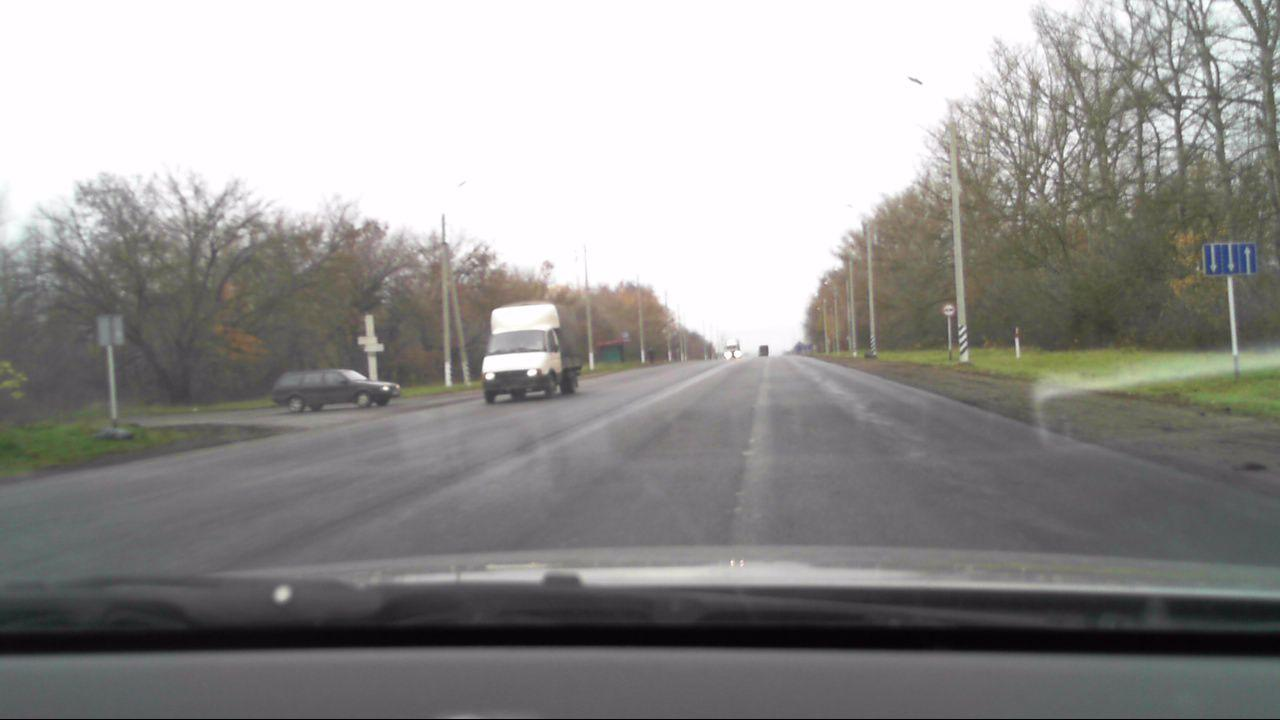3_20: (942, 303, 954, 315)
5_15_7: (1205, 240, 1258, 276)
